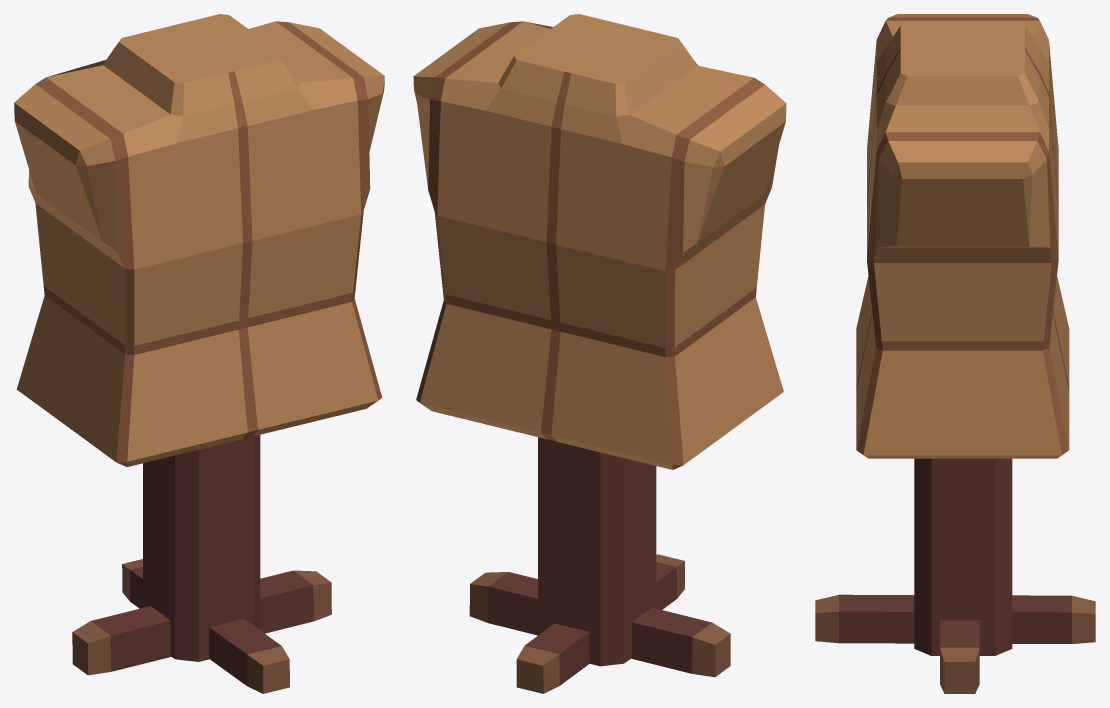
The model's file is manikin.fbx.
3 renders of one model, left to right at view 1: azimuth 30°, elevation 25°; view 2: azimuth 150°, elevation 25°; view 3: azimuth 270°, elevation 25°, orthographic.
Visible parts, largest first — view 1: manikin; view 2: manikin; view 3: manikin.
Part boxes in pixels (x1,y1,x2,y2): manikin: (14,14,384,693); manikin: (413,14,786,693); manikin: (815,14,1095,693).
Bounding box in the file's own units: 38.13 × 69.57 × 30.12.
